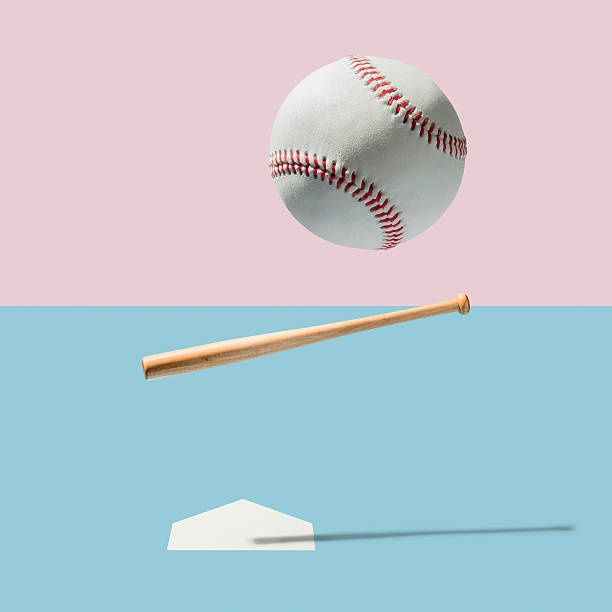bita: (133, 297, 465, 381)
